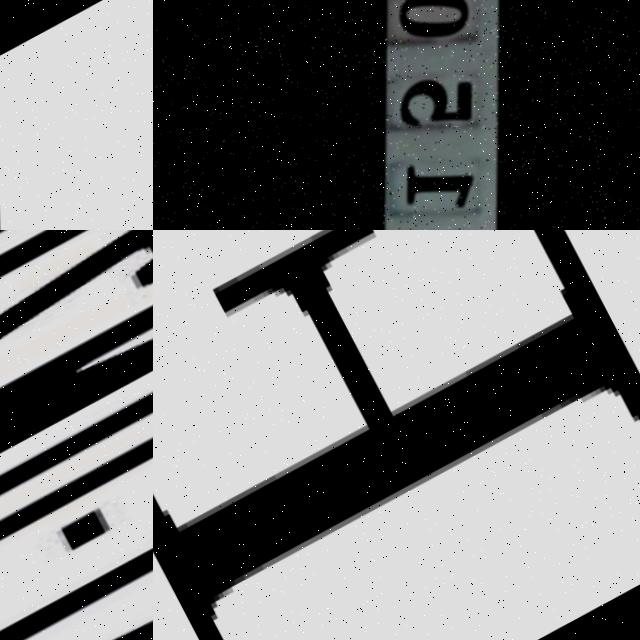0: (0, 322, 153, 630), (368, 0, 500, 82)
1: (377, 128, 507, 230)
5: (368, 39, 508, 174)
7: (0, 230, 153, 496)
9: (0, 230, 153, 440)
A: (0, 495, 153, 640)
E: (153, 230, 640, 640)
N: (0, 250, 153, 559)
T: (0, 437, 153, 640)
V: (15, 0, 153, 230)
